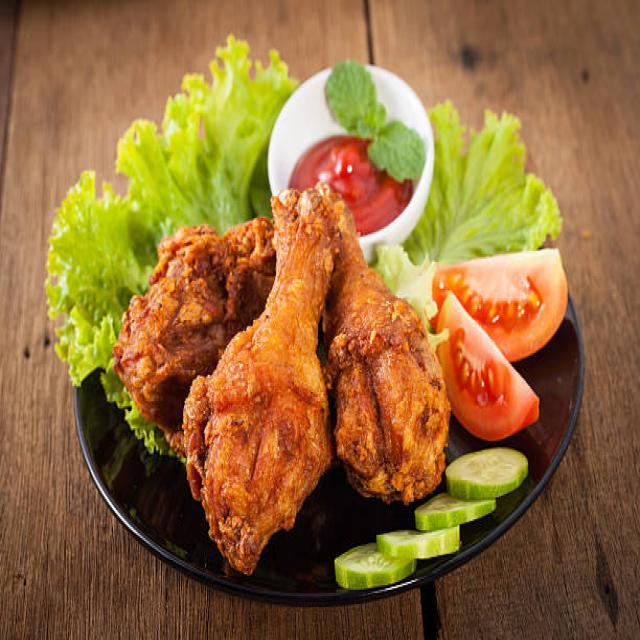Frango: (104, 179, 446, 577)
